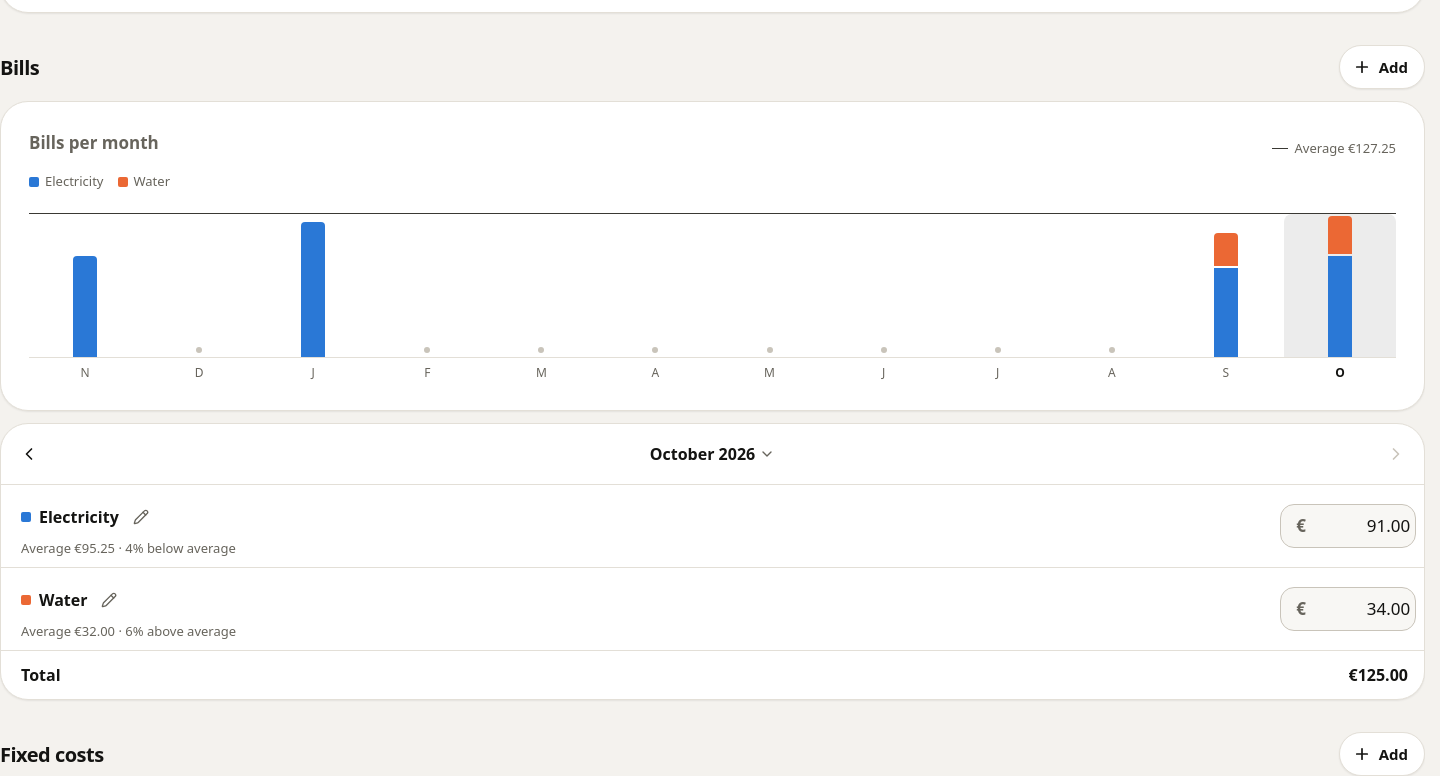
Test: Monthly bills › renames a bill and asks before deleting it with its amounts
This screenshot has width=1440, height=776.
(page scrolled)
Click the button named "Edit Water": (110, 600) [92,578,128,622]
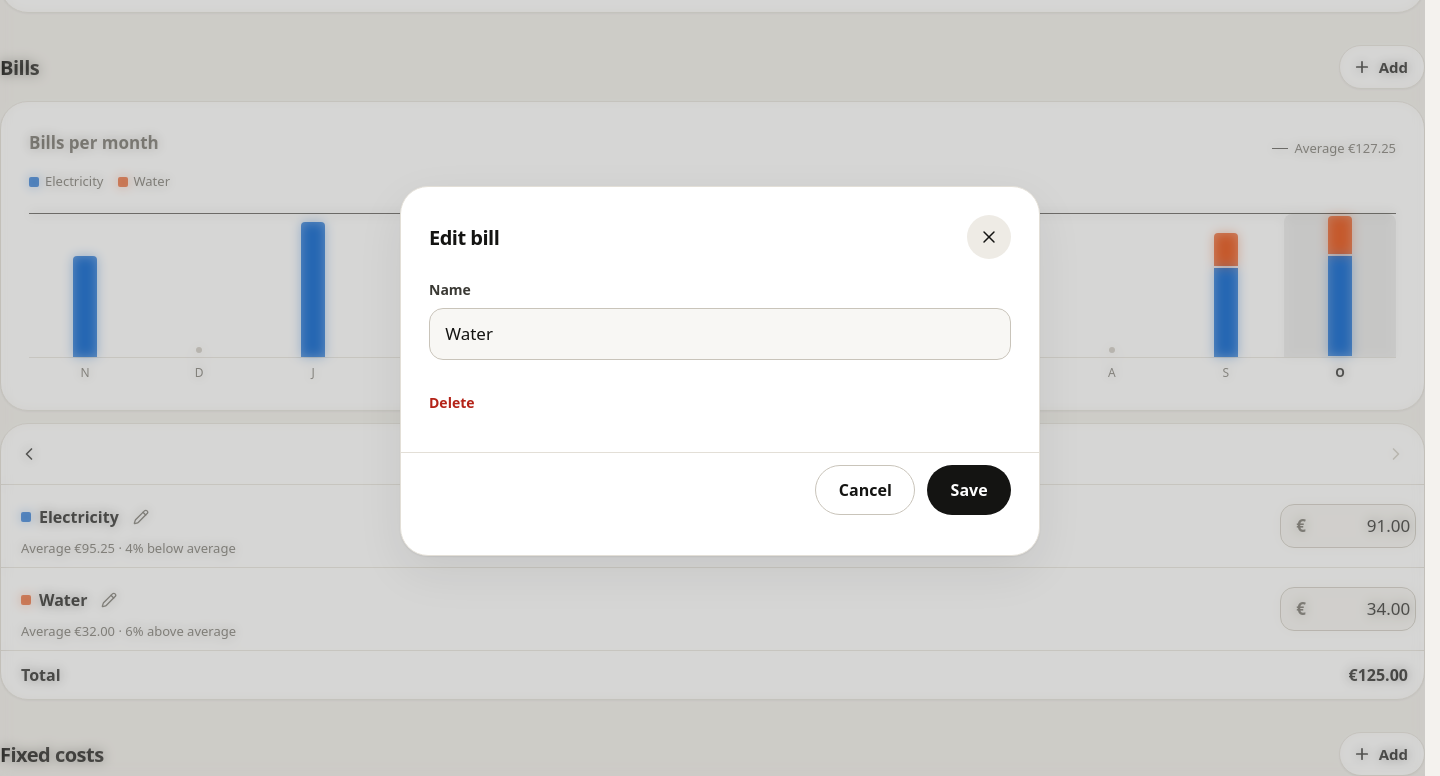
Expected: the field labelled "Amount" is not shown
Result: the heading "Edit bill" is shown at [429,224,499,250]
Replace the text in the field labelled "Name" with "Water and sewage": (720, 334) [429,308,1011,360]
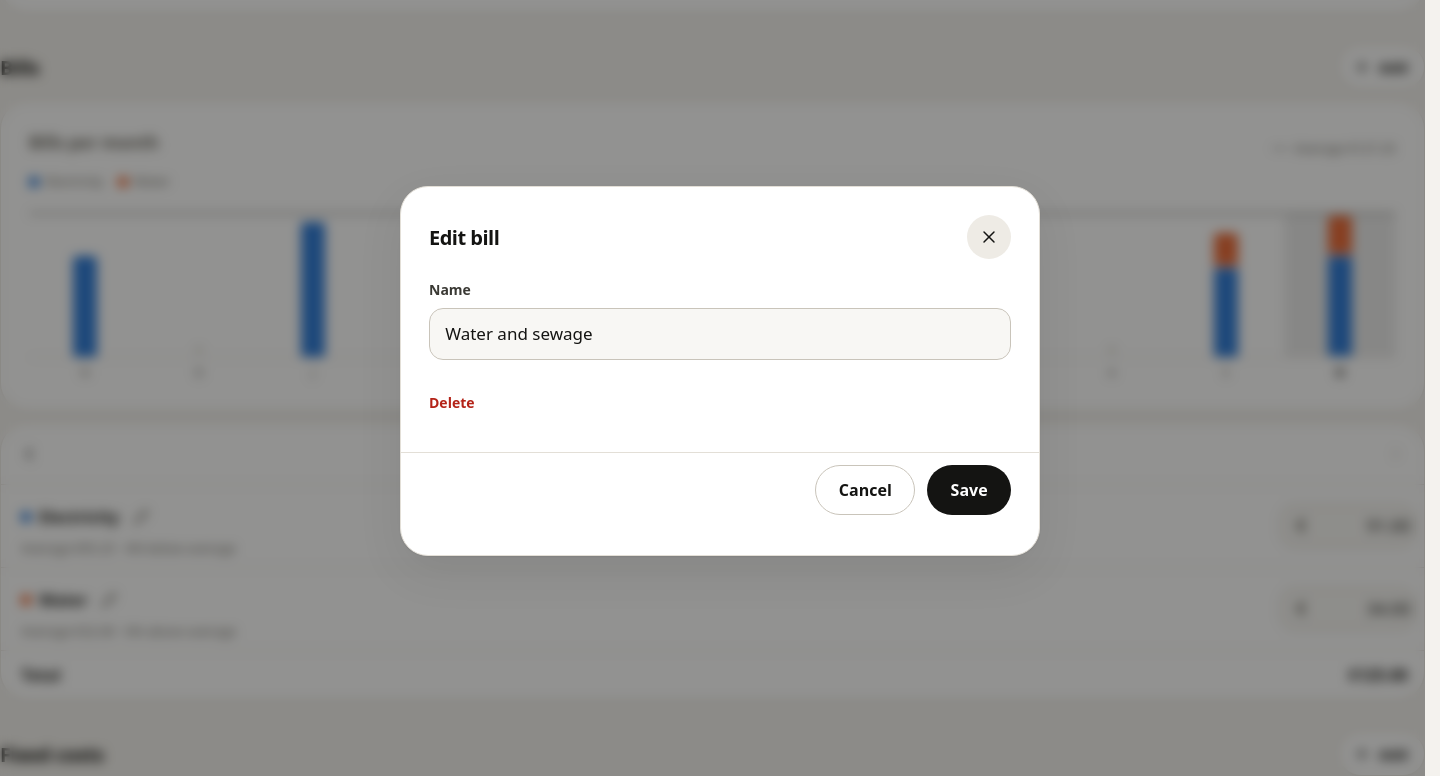
Click the button "Save": (969, 490) [927,465,1011,515]
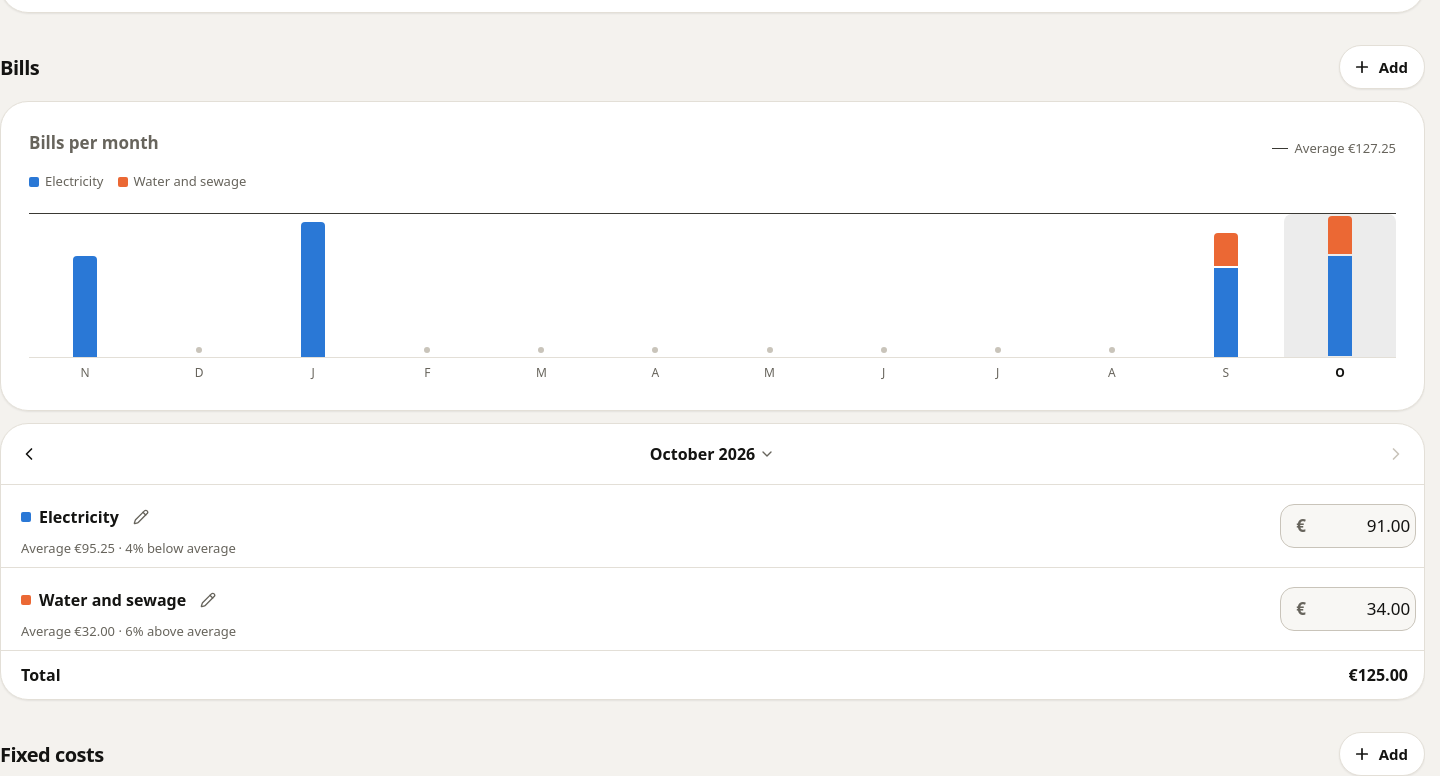
Expected: the field labelled "Water and sewage" holds "34.00", [1314,589,1410,629]
Click the button named "Edit Electricity": (141, 517) [123,495,159,539]
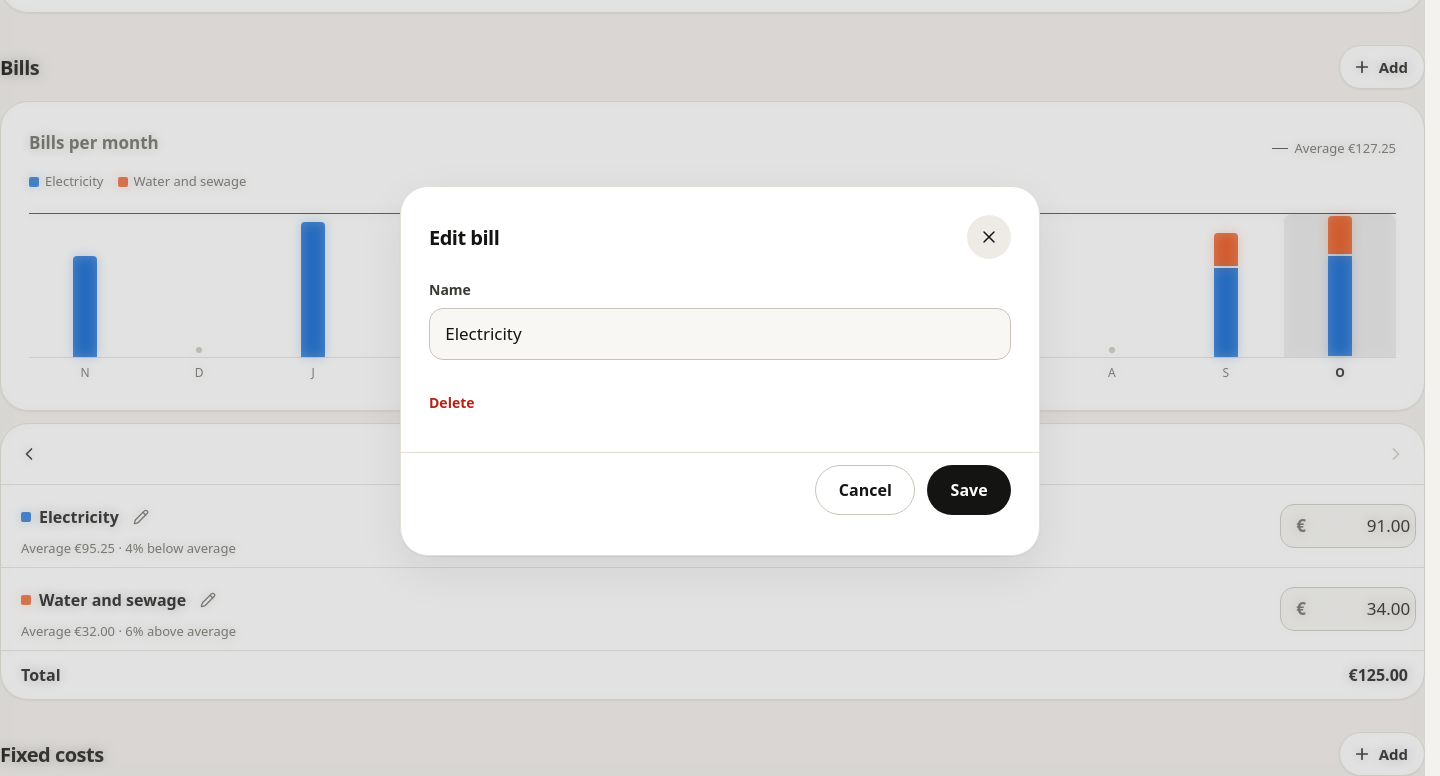
Click the button "Delete": (452, 402) [421,380,482,424]
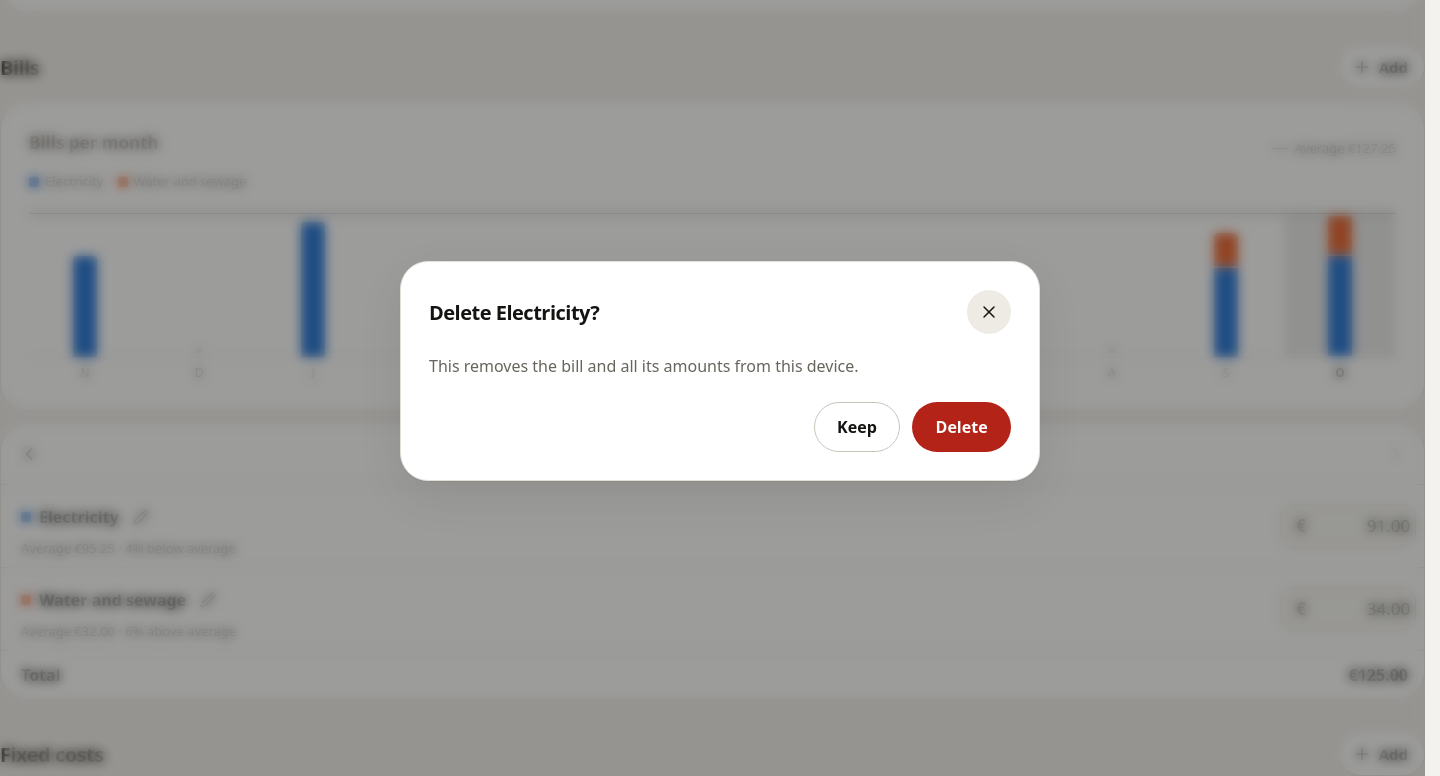
Result: the heading "Delete Electricity?" is shown at [429,300,599,324]
Result: the text "This removes the bill and all its amounts from this device." is shown at [429,355,859,377]
Click the button "Delete": (962, 427) [912,402,1011,452]
(page scrolled)
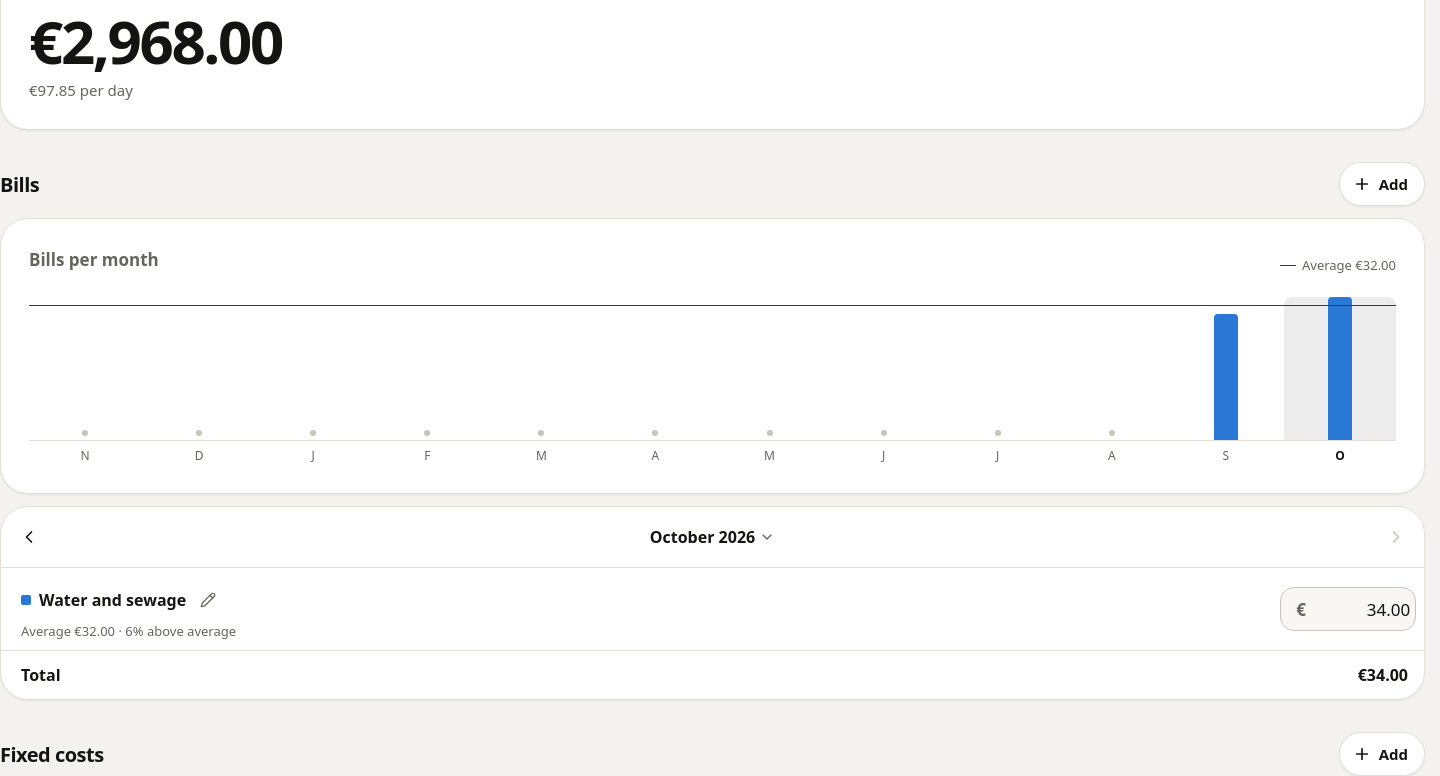
Result: the list item "Electricity" is gone
Result: the element with class "bill-month-total" reads "Total €34.00" at [1,650,1424,699]
